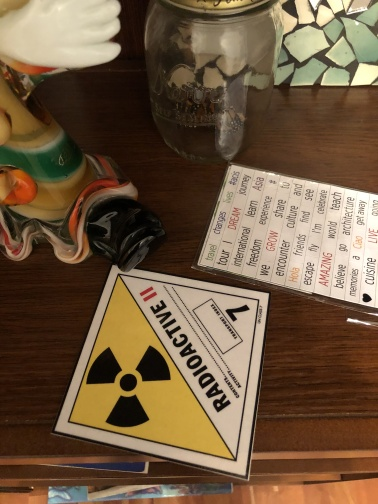Radioactive: (57, 265, 269, 478)
